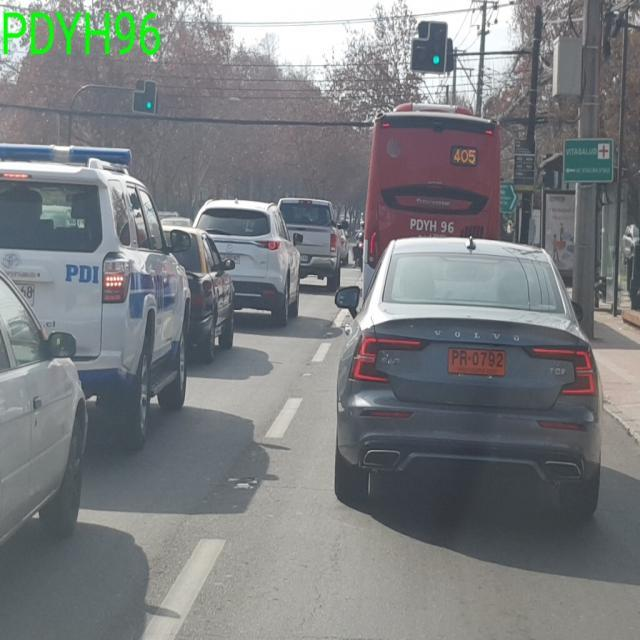Ad-signs: (562, 137, 613, 183)
Bus: (361, 101, 502, 299)
Car: (331, 233, 603, 521), (0, 268, 89, 547)
Police-car: (0, 141, 192, 450)
Traffic-light: (410, 19, 448, 73), (132, 79, 157, 114)
